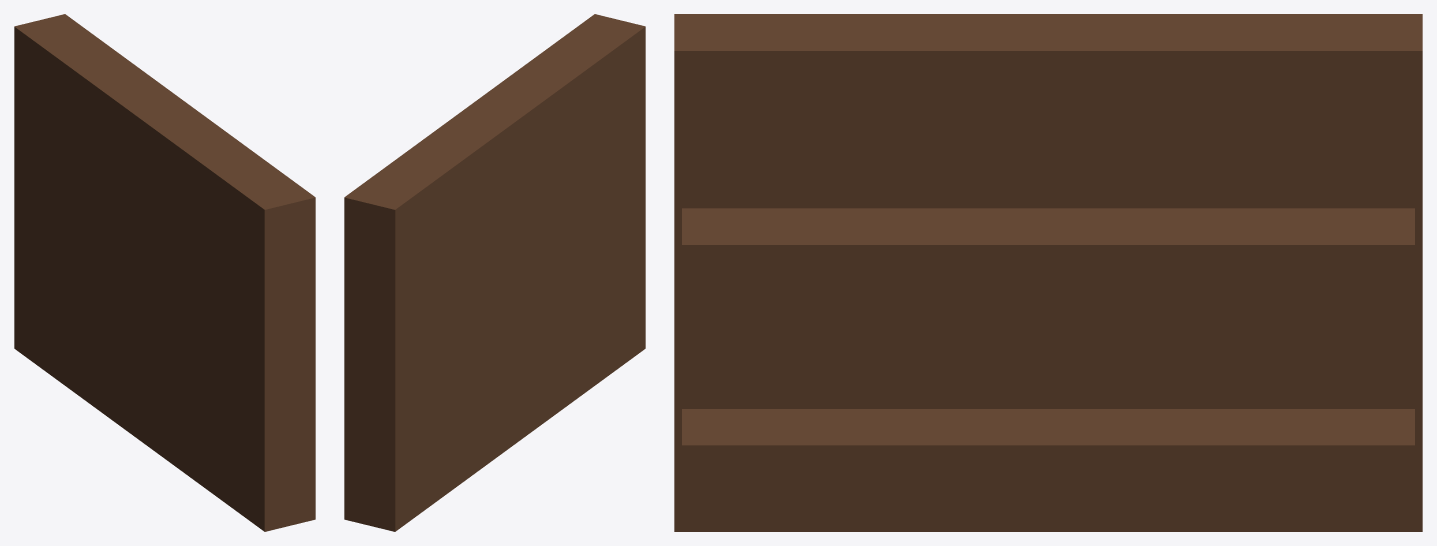
Rendered from MuebleBotellas.fbx.
The picture shows the model from 3 angles, left to right: view 1: azimuth 30°, elevation 25°; view 2: azimuth 150°, elevation 25°; view 3: azimuth 270°, elevation 25°; orthographic projection. The views are drawn at different scales.
Parts seen in each view (by area): view 1: pCube66; view 2: pCube66; view 3: pCube66.
Boxes of the visible parts, x1=… form: pCube66: x1=14, y1=14, x2=315, y2=531; pCube66: x1=344, y1=14, x2=645, y2=531; pCube66: x1=674, y1=14, x2=1422, y2=531.
Bounding box in the file's own units: 1 × 6.03 × 8.51.
